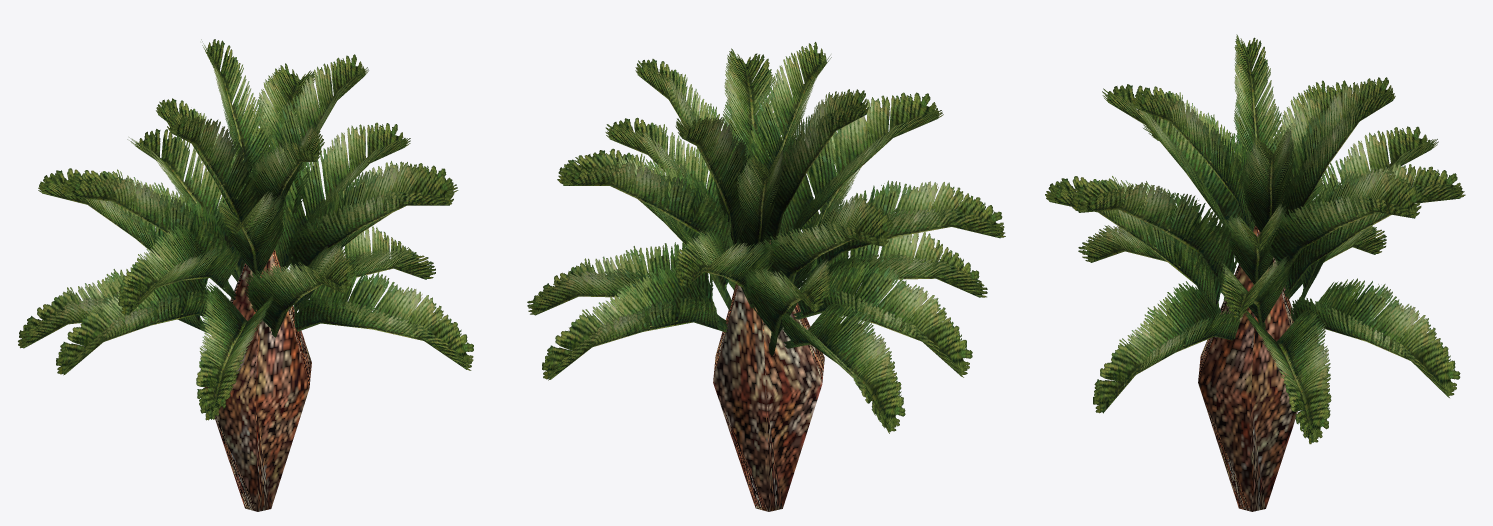
The model's file is tree_cretan_date_palm_05.dae.
3 views of the same model, side by side, from view 1: azimuth 30°, elevation 25°; view 2: azimuth 150°, elevation 25°; view 3: azimuth 270°, elevation 25° (orthographic). The views are drawn at different scales.
Parts seen in each view (by area): view 1: tree_cretan_date_palm_05; view 2: tree_cretan_date_palm_05; view 3: tree_cretan_date_palm_05.
Part boxes in pixels (x1,y1,x2,y2): tree_cretan_date_palm_05: [18, 39, 473, 511]; tree_cretan_date_palm_05: [527, 42, 1005, 511]; tree_cretan_date_palm_05: [1045, 34, 1465, 511].
Size of the model in its own units: 8.54 by 8.79 by 7.67.
